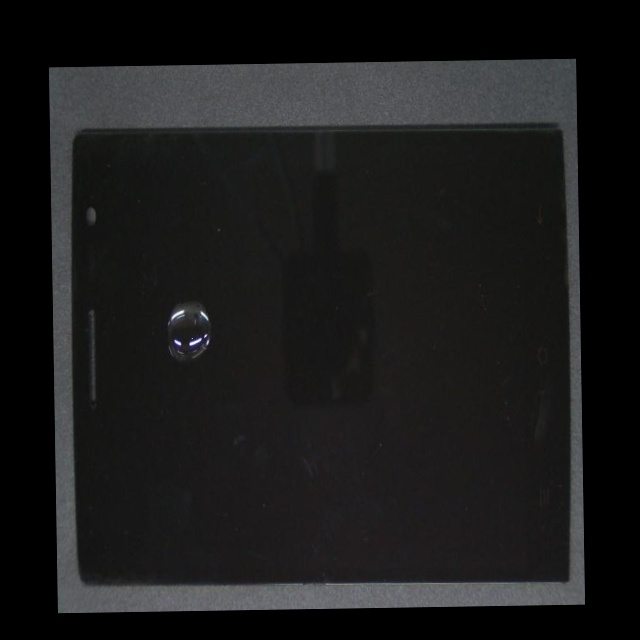oil: (132, 175, 242, 424)
